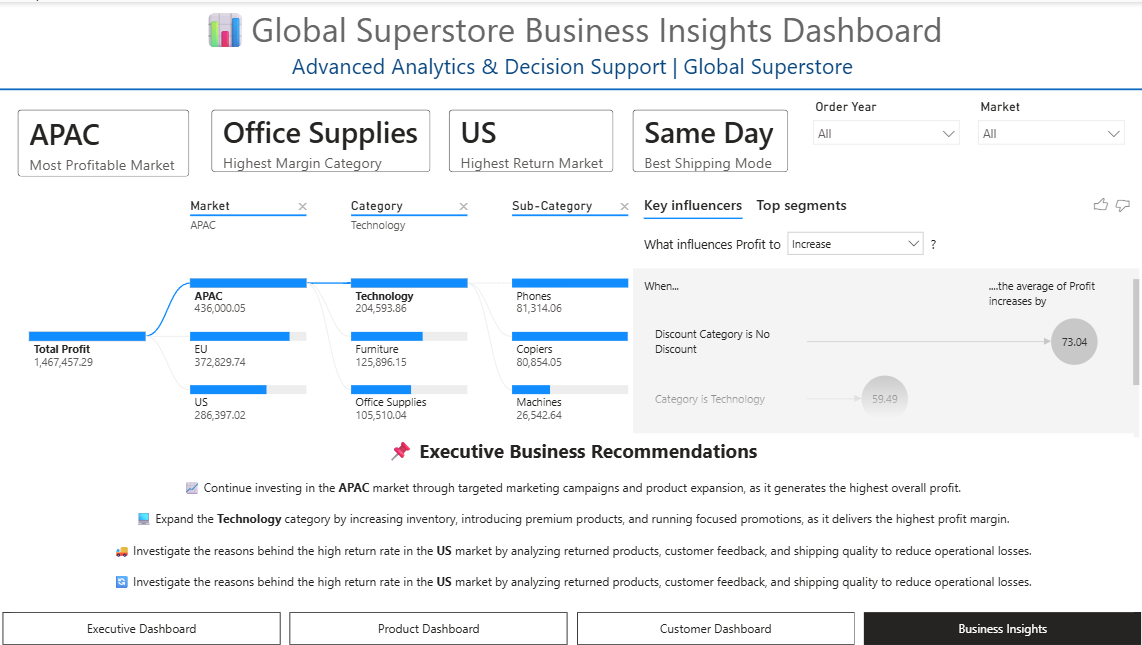

What the dashboard file says about the page in this screenshot:
{"tool":"powerbi","page":{"name":"Business Insights","canvas":[1280,720],"ordinal":3},"visuals":[{"type":"textbox","box":[0,0,1280.3,97.4],"z":0},{"type":"shape","box":[0,86.4,1280.3,22],"z":1},{"type":"decompositionTreeVisual","fields":{"Analyze":["Orders.Total Profit"],"ExplainBy":["Orders.Market","Orders.Category","Orders.Sub-Category","Orders.Product Name"]},"box":[2.8,202.7,758.9,289.3],"z":2},{"type":"keyDriversVisual","fields":{"Target":["Orders.Profit"],"ExplainBy":["Orders.Category","Orders.Segment","Orders.Market","Orders.Discount Category","Orders.Ship Mode","Orders.Returned Flag"]},"box":[703,202.7,577.2,289.3],"z":3},{"type":"slicer","fields":{"Values":["Orders.Order Year"]},"box":[898.7,103.4,184.5,99.2],"z":4},{"type":"slicer","fields":{"Values":["Orders.Market"]},"box":[1083.2,103.4,184.5,99.2],"z":5},{"type":"pageNavigator","box":[2.8,682.1,1277.5,37.7],"z":6},{"type":"cardVisual","fields":{"Data":["Orders.Most Profitable Market"]},"box":[2.8,103.4,226.4,109],"z":7},{"type":"cardVisual","fields":{"Data":["Orders.Highest Return Market"]},"box":[485,103.4,218,104.8],"z":8},{"type":"cardVisual","fields":{"Data":["Orders.Best Shipping Mode"]},"box":[690.5,103.4,208.3,104.8],"z":9},{"type":"cardVisual","fields":{"Data":["Orders.Highest Margin Category"]},"box":[219.4,103.4,279.5,104.8],"z":10},{"type":"textbox","box":[12.6,482.2,1255.1,199.9],"z":11}]}

Visuals, with their boxes in screenshot pixels (x1, y1, x2, y2), scaled from the page's 1280x720 canvas onto the 1142x645 screenshot:
textbox: {"left": 0, "top": 0, "right": 1141, "bottom": 87}
shape: {"left": 0, "top": 77, "right": 1141, "bottom": 97}
decompositionTreeVisual - Orders.Total Profit x Orders.Market: {"left": 2, "top": 182, "right": 680, "bottom": 441}
keyDriversVisual - Orders.Profit x Orders.Category: {"left": 627, "top": 182, "right": 1141, "bottom": 441}
slicer - Orders.Order Year: {"left": 802, "top": 93, "right": 966, "bottom": 181}
slicer - Orders.Market: {"left": 966, "top": 93, "right": 1131, "bottom": 181}
pageNavigator: {"left": 2, "top": 611, "right": 1141, "bottom": 644}
cardVisual - Orders.Most Profitable Market: {"left": 2, "top": 93, "right": 204, "bottom": 190}
cardVisual - Orders.Highest Return Market: {"left": 433, "top": 93, "right": 627, "bottom": 187}
cardVisual - Orders.Best Shipping Mode: {"left": 616, "top": 93, "right": 802, "bottom": 187}
cardVisual - Orders.Highest Margin Category: {"left": 196, "top": 93, "right": 445, "bottom": 187}
textbox: {"left": 11, "top": 432, "right": 1131, "bottom": 611}
